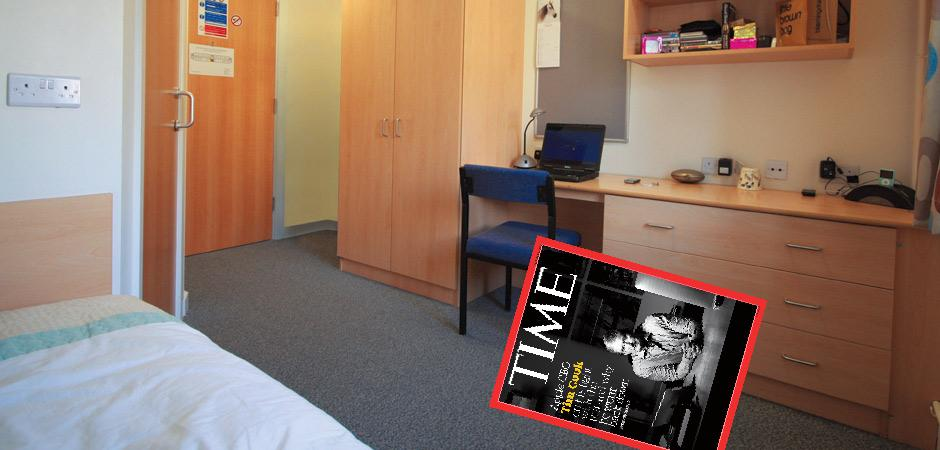times: (486, 234, 771, 450)
